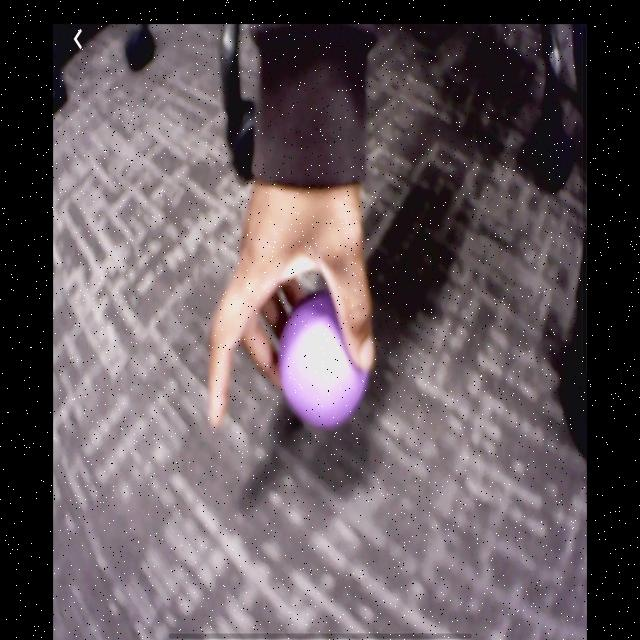ball: (277, 289, 372, 432)
